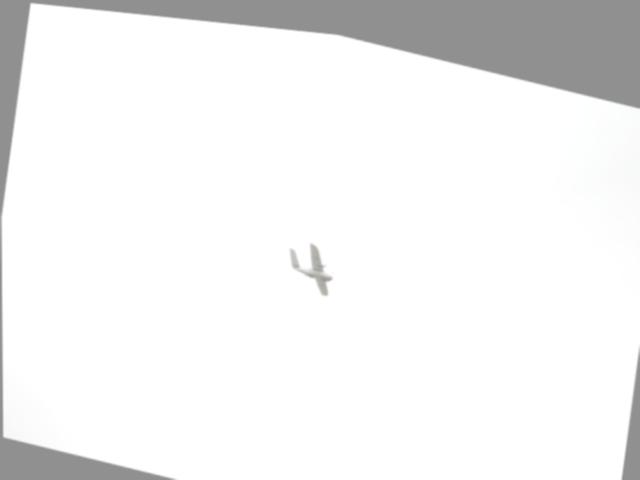plane: (284, 232, 337, 293)
